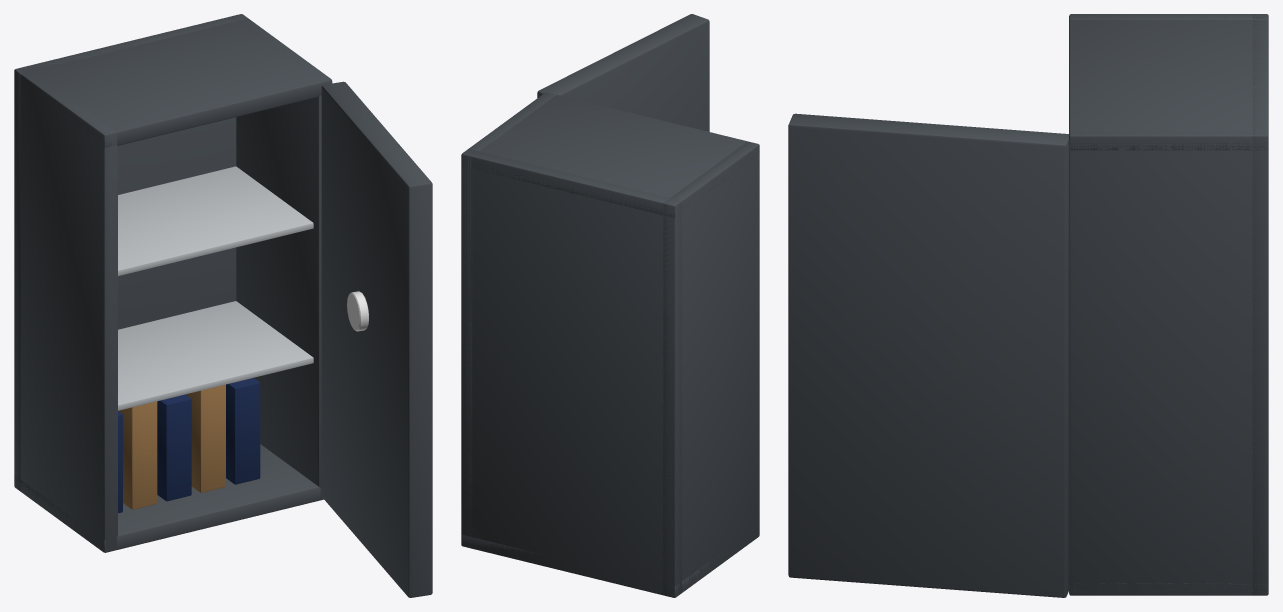
File: marlin_safe_cabinet.glb
3 renders of one model, left to right at view 1: azimuth 30°, elevation 25°; view 2: azimuth 150°, elevation 25°; view 3: azimuth 270°, elevation 25°, orthographic. The views are drawn at different scales.
Visible parts, largest first — view 1: marlin_safe_cabinet; view 2: marlin_safe_cabinet; view 3: marlin_safe_cabinet.
Boxes of the visible parts, <box> form: marlin_safe_cabinet: <box>14,14,432,597</box>; marlin_safe_cabinet: <box>461,14,759,597</box>; marlin_safe_cabinet: <box>788,14,1268,597</box>.
Bounding box in the file's own units: 0.838 × 1.4 × 1.32.
